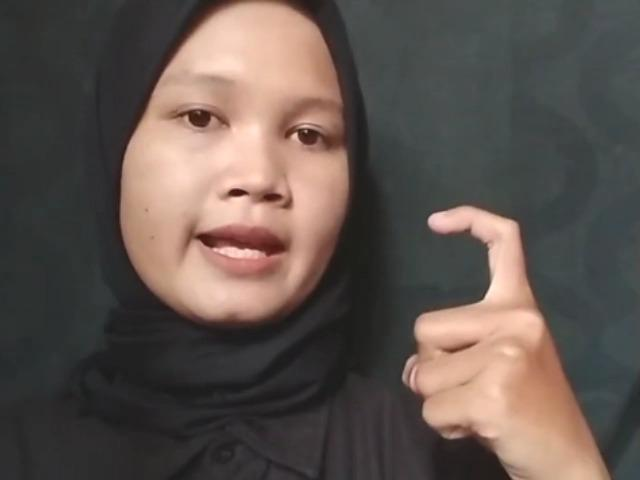X: (401, 203, 611, 480)
